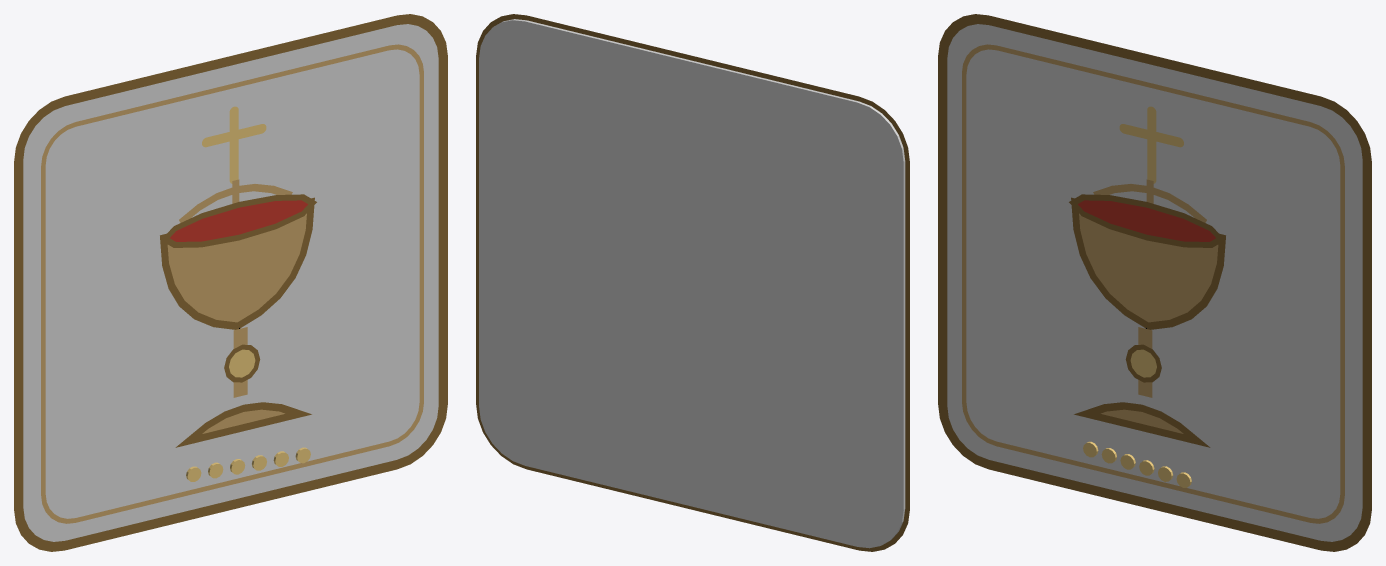
Rendered from gate-2-liturgical.glb.
3 renders of one model, left to right at view 1: azimuth 30°, elevation 25°; view 2: azimuth 150°, elevation 25°; view 3: azimuth 330°, elevation 25°, orthographic.
Visible parts, largest first — view 1: gate-2-liturgical; view 2: gate-2-liturgical; view 3: gate-2-liturgical.
Boxes of the visible parts, x1,y1,x2,y2 form: gate-2-liturgical: [14, 14, 447, 551]; gate-2-liturgical: [476, 14, 909, 551]; gate-2-liturgical: [938, 14, 1371, 551].
Size of the model in its own units: 1.18 by 1.18 by 0.1125.
